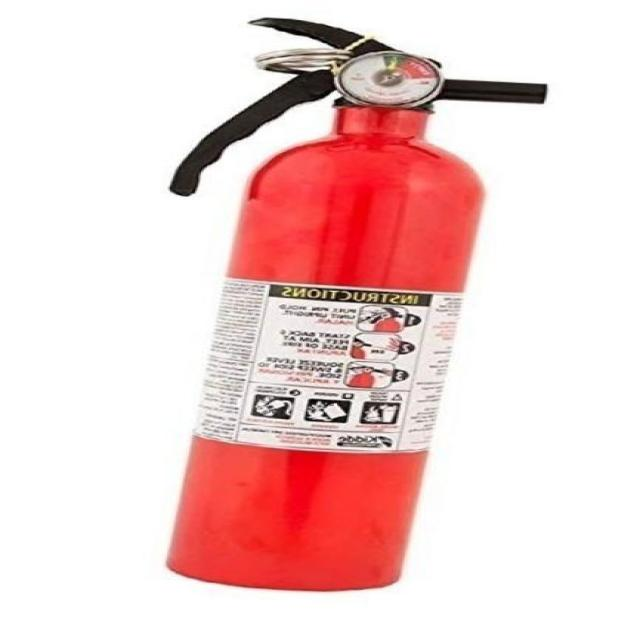fire_extinguisher: (157, 11, 556, 594)
